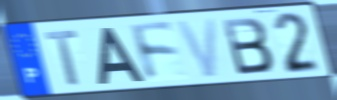2: (272, 10, 321, 75)
A: (96, 25, 146, 86)
B: (220, 15, 276, 77)
F: (127, 21, 182, 85)
T: (43, 28, 81, 88)
V: (174, 17, 220, 80)
